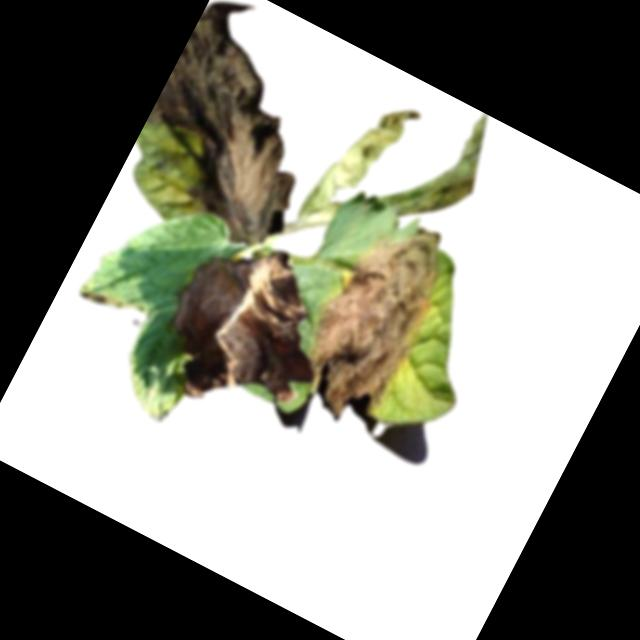Late_blight: (116, 1, 363, 256), (136, 214, 353, 442), (278, 199, 464, 434), (297, 84, 419, 242), (392, 94, 506, 234)
